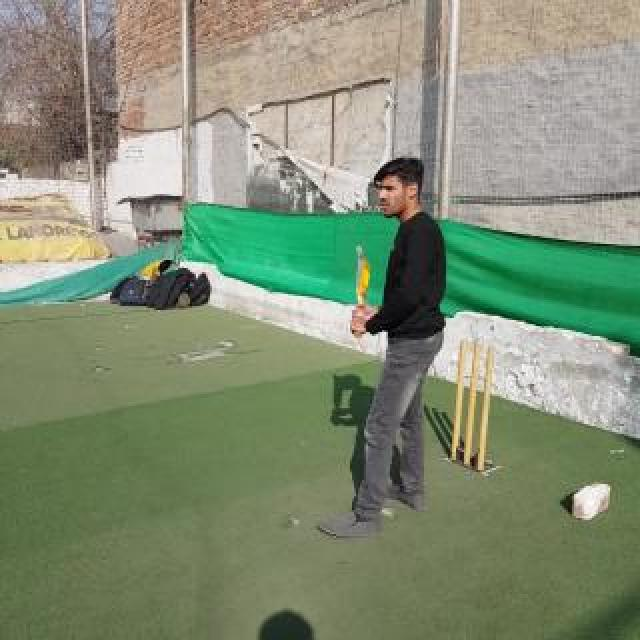bat: (355, 244, 371, 340)
